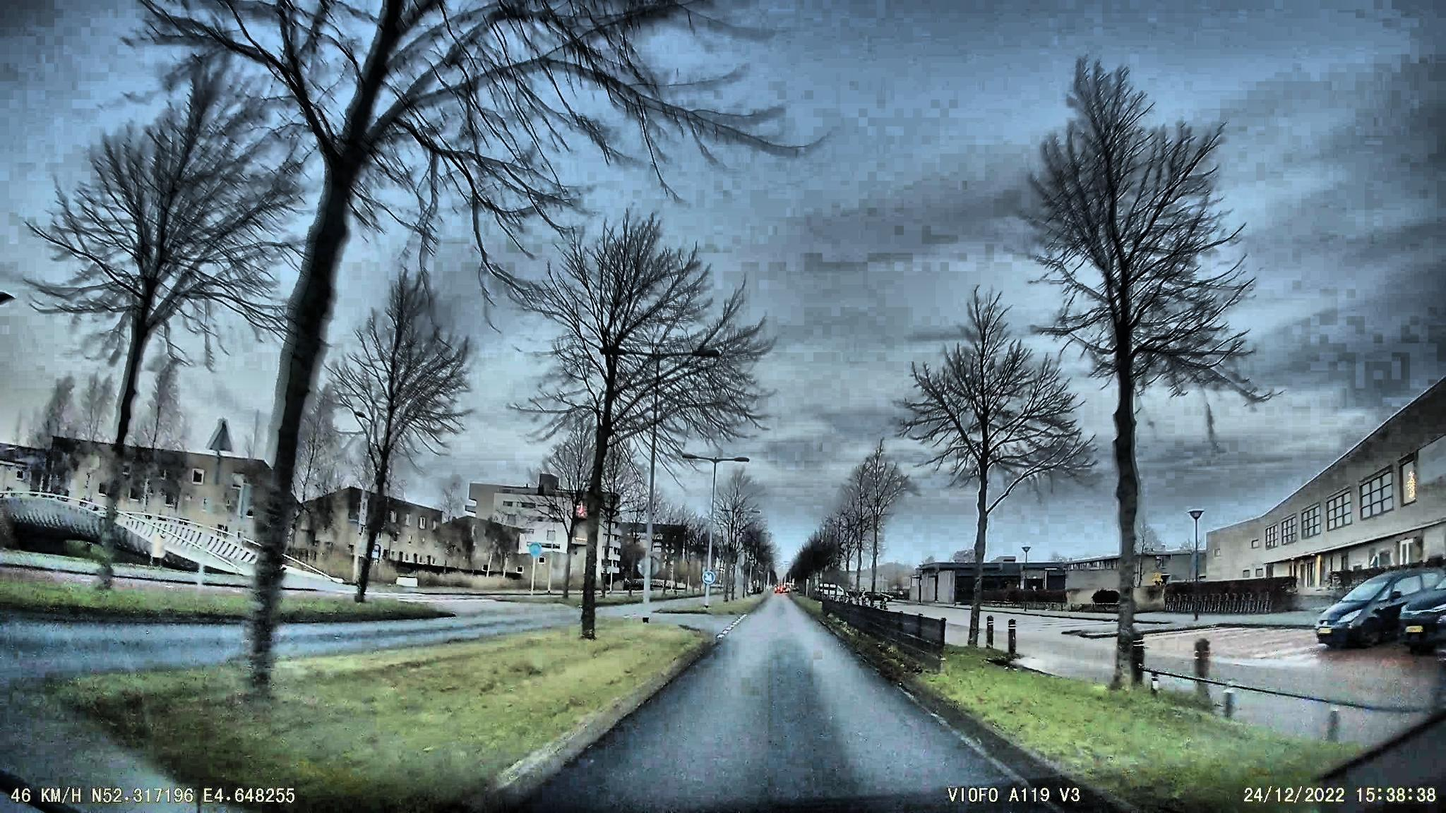Roads: (555, 596, 1054, 813)
